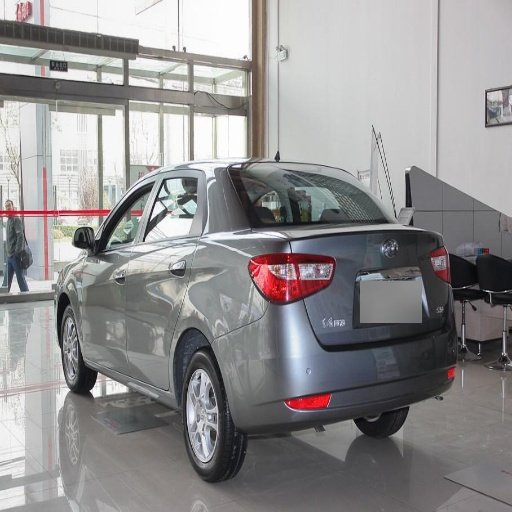back_bumper: (216, 282, 463, 436)
back_glass: (233, 165, 379, 228)
back_left_door: (130, 172, 198, 386)
tailgate: (280, 223, 435, 348)
